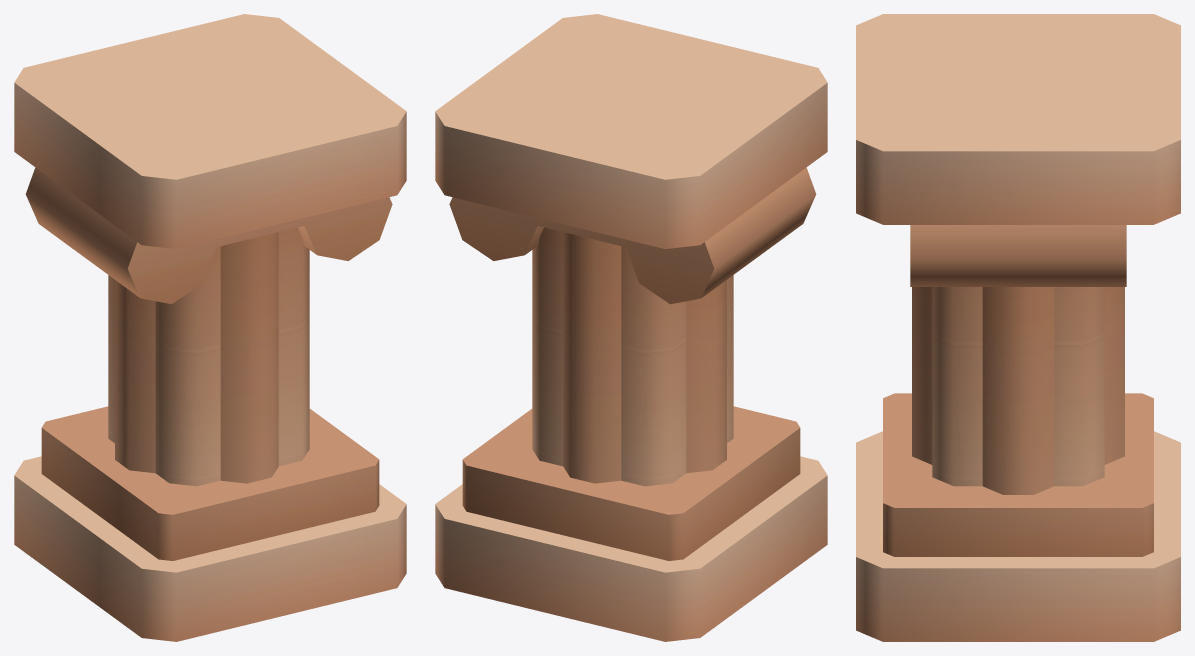
File: column.glb
3 views of the same model, side by side, from view 1: azimuth 30°, elevation 25°; view 2: azimuth 150°, elevation 25°; view 3: azimuth 270°, elevation 25° (orthographic). The views are drawn at different scales.
Parts seen in each view (by area): view 1: column; view 2: column; view 3: column.
Part boxes in pixels (x1,y1,x2,y2): column: [14, 14, 406, 641]; column: [435, 14, 827, 641]; column: [856, 14, 1180, 641].
Bounding box in the file's own units: 0.6031 × 1 × 0.6001.
1 material, 1 textured.
